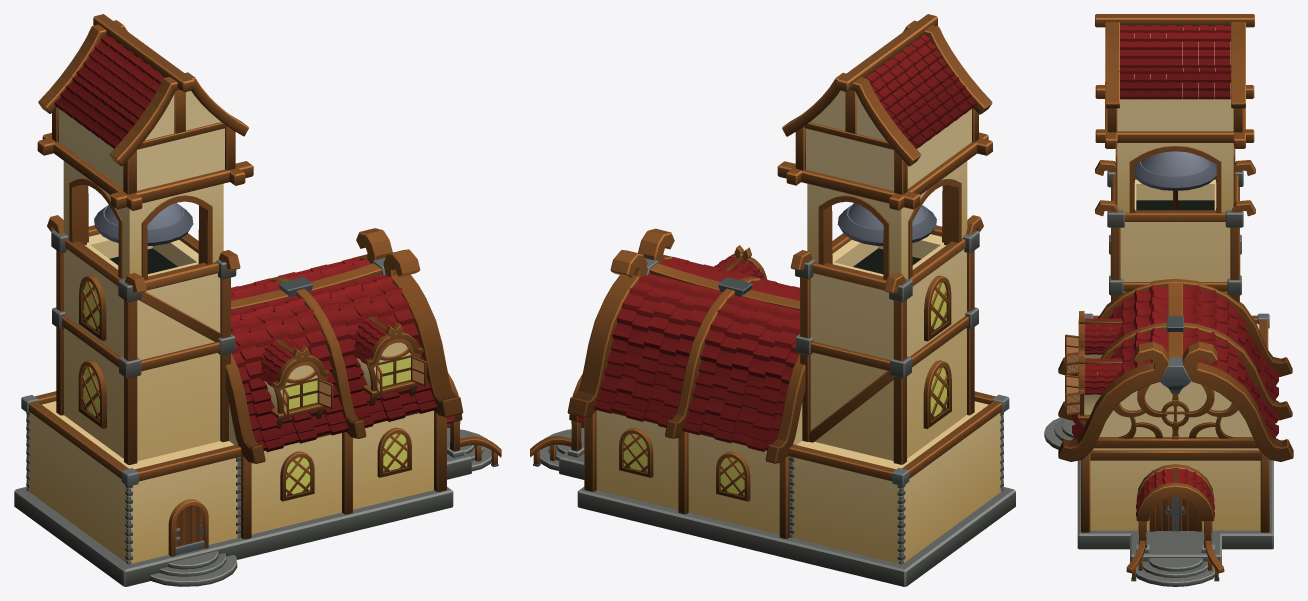
File: Est-Medi-5.fbx
3 views of the same model, side by side, from view 1: azimuth 30°, elevation 25°; view 2: azimuth 150°, elevation 25°; view 3: azimuth 270°, elevation 25° (orthographic). The views are drawn at different scales.
Visible parts, largest first — view 1: Est-Medi-5; view 2: Est-Medi-5; view 3: Est-Medi-5.
Boxes of the visible parts, x1,y1,x2,y2 form: Est-Medi-5: (14, 14, 501, 586); Est-Medi-5: (530, 14, 1015, 586); Est-Medi-5: (1044, 14, 1293, 586).
Size of the model in its own units: 2567 by 2819 by 1503.
